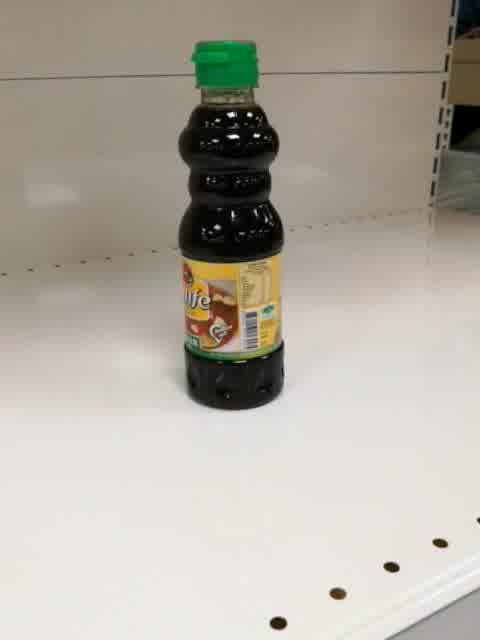cookingoil: (174, 36, 287, 413)
